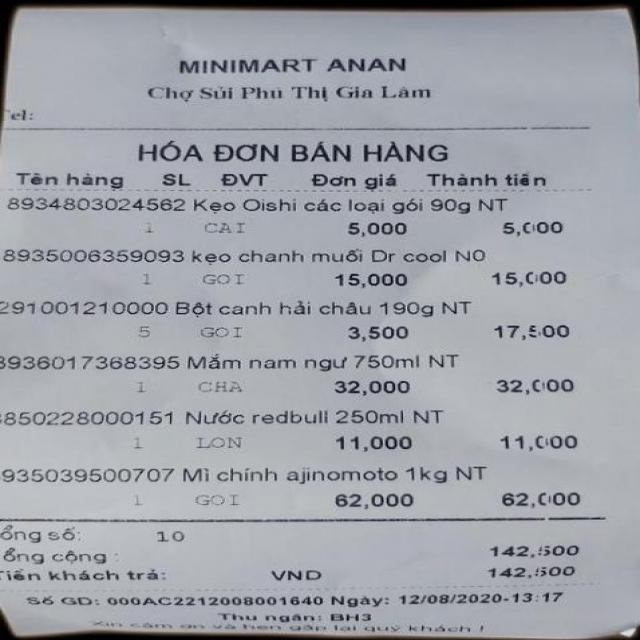Date: (398, 589, 506, 610)
Store_Name: (147, 54, 423, 88)
Total_Amount: (0, 543, 586, 565)
